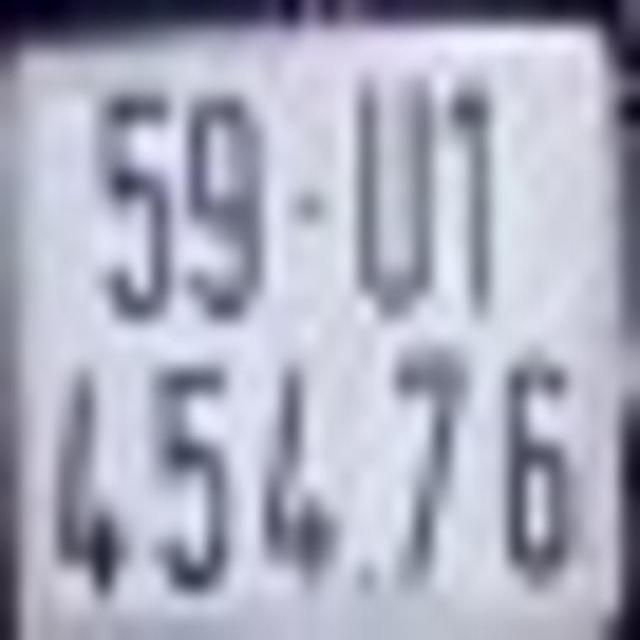1: (446, 86, 496, 324)
4: (262, 361, 341, 588), (55, 369, 123, 593)
5: (149, 366, 231, 594), (98, 94, 176, 316)
6: (502, 360, 574, 578)
7: (391, 353, 465, 577)
9: (188, 92, 262, 319)
U: (356, 76, 434, 310)
